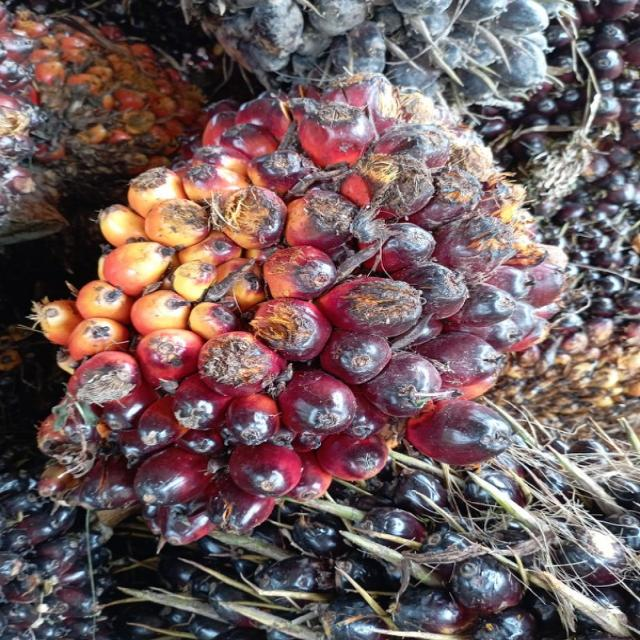fraksi 1: (40, 18, 557, 549)
